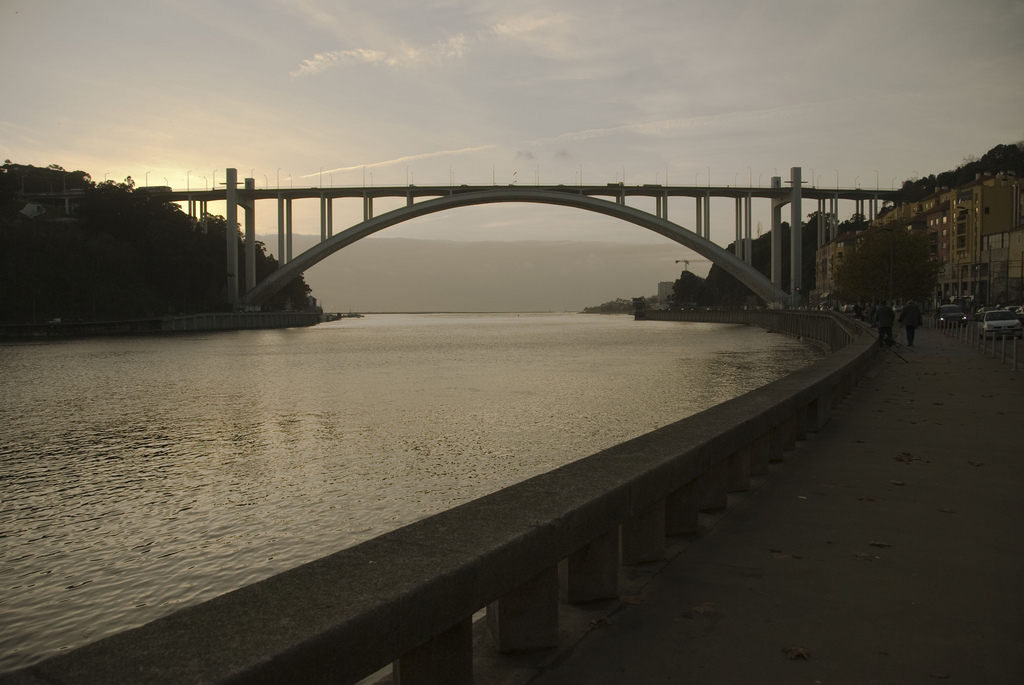arrabida: (152, 167, 893, 312)
